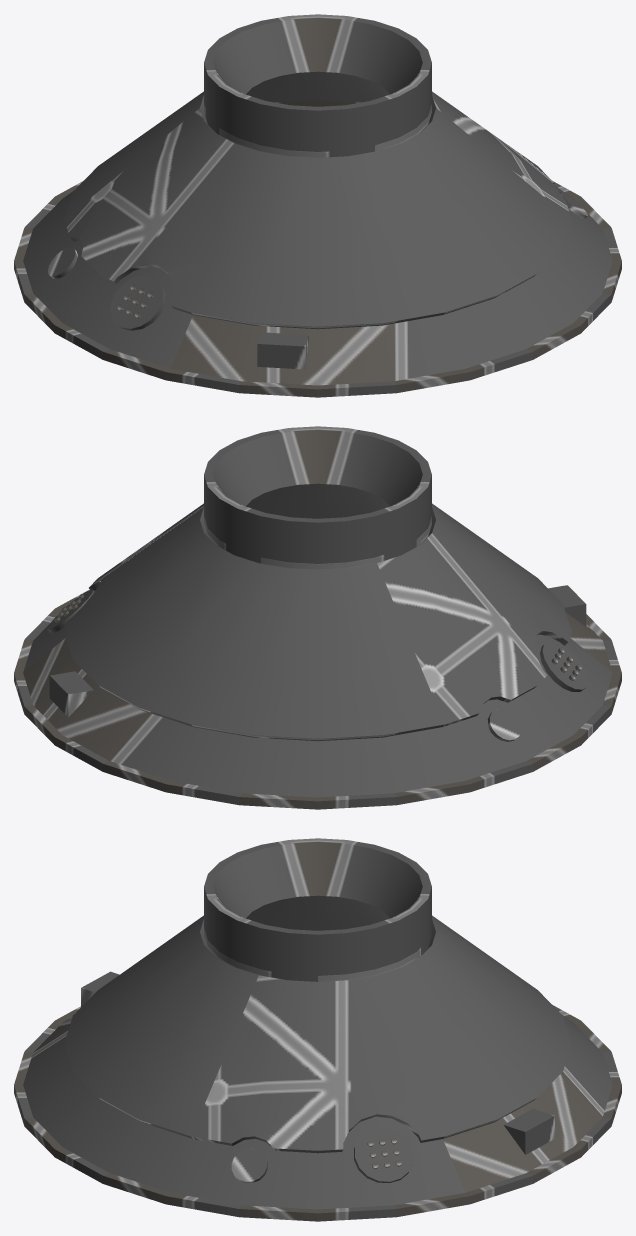
Rendered from big narrow adapter snoot.obj.
3 renders of one model, top to bottom at view 1: azimuth 30°, elevation 25°; view 2: azimuth 150°, elevation 25°; view 3: azimuth 270°, elevation 25°, orthographic.
Parts seen in each view (by area): view 1: 1; view 2: 1; view 3: 1.
Part boxes in pixels (bbox=[...]): 1: bbox=[14, 14, 621, 397]; 1: bbox=[14, 426, 621, 809]; 1: bbox=[14, 838, 621, 1221].
Size of the model in its own units: 2.5 by 0.9375 by 2.5.
